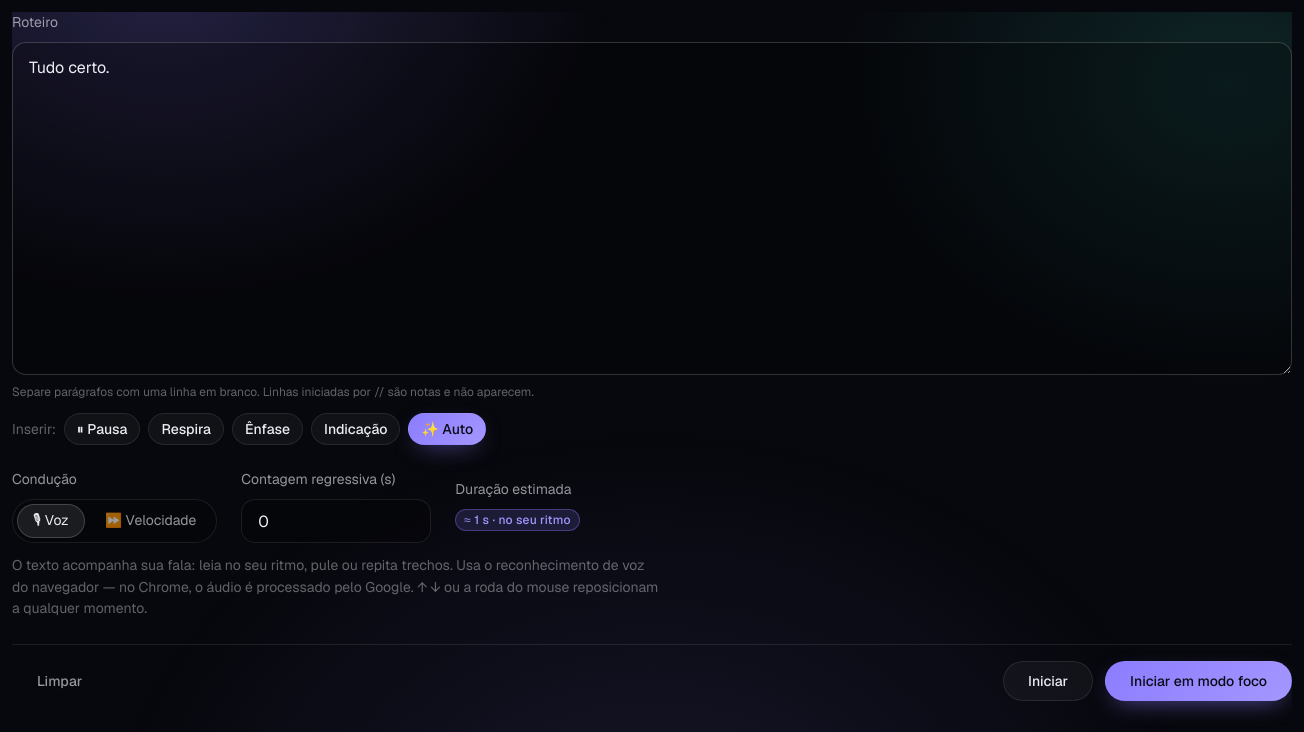
Test: <Teleprompter /> — marcação automática › avisa quando não há nada a sugerir
Step 1. Click the button "✨ Auto" → coordinates (447, 429), box [408, 413, 486, 445]
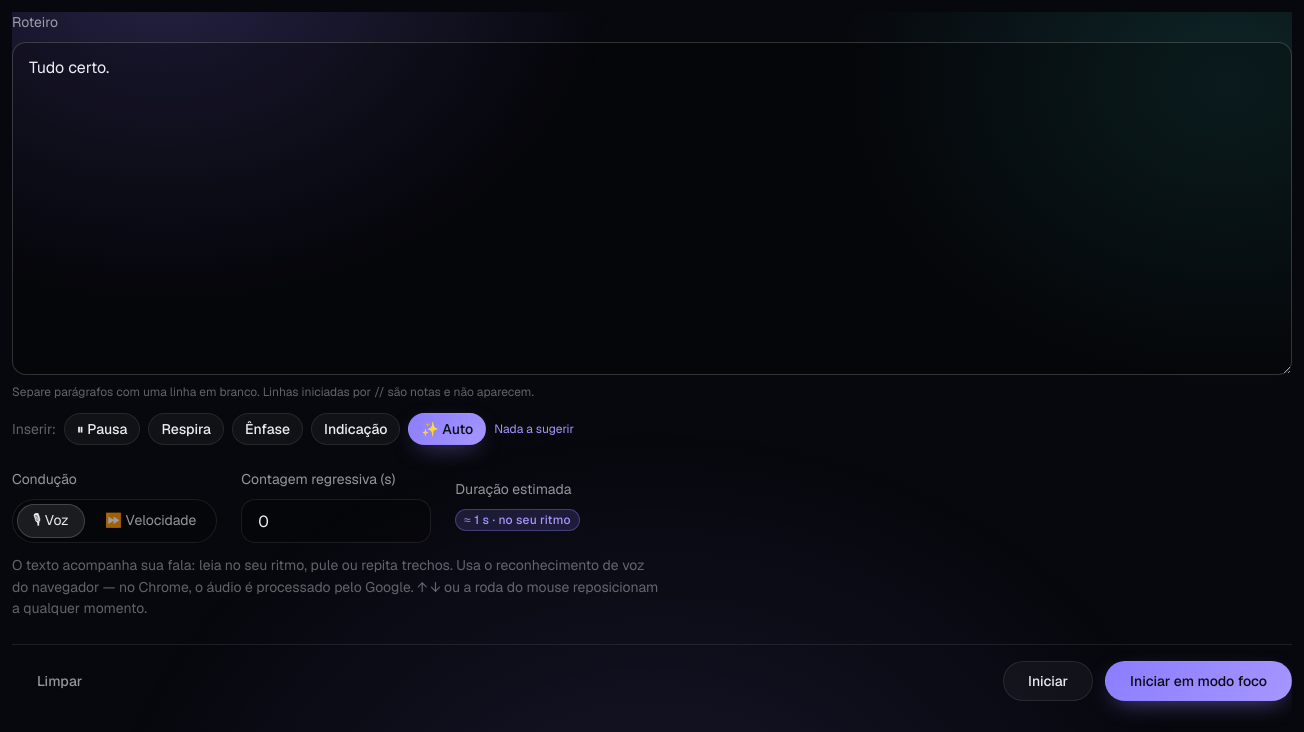
Check: the message reads "Nada a sugerir", box [494, 421, 574, 437]
